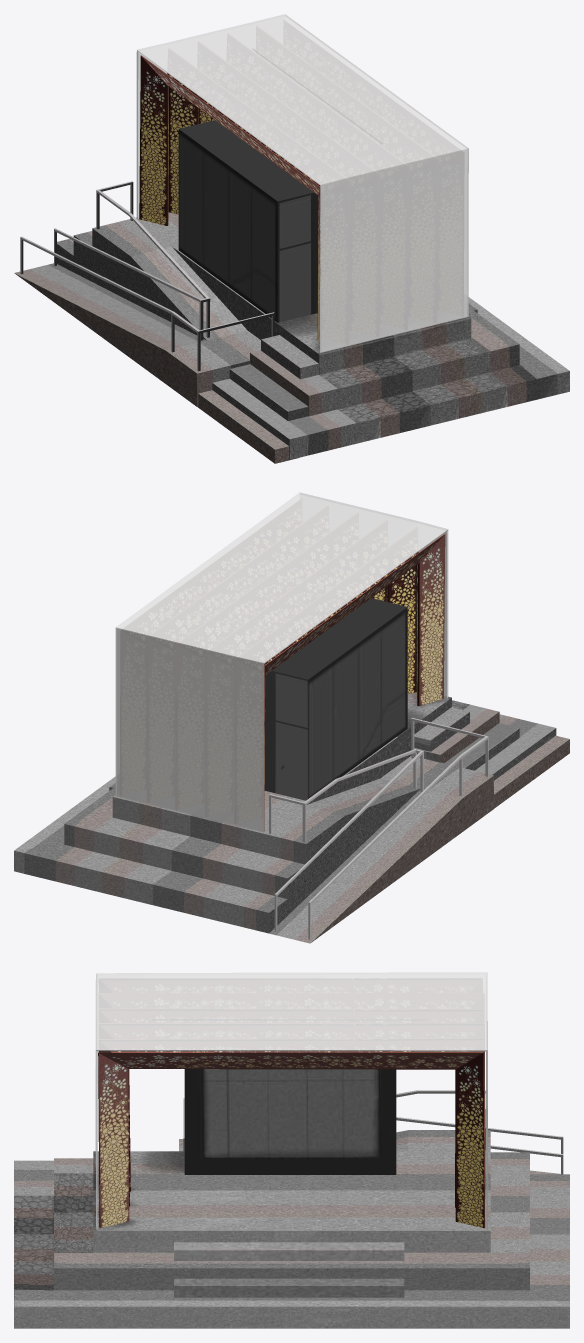
The model's file is stage.dae.
The picture shows the model from 3 angles, top to bottom: view 1: azimuth 30°, elevation 25°; view 2: azimuth 150°, elevation 25°; view 3: azimuth 270°, elevation 25°; orthographic projection. The views are drawn at different scales.
Visible parts, largest first — view 1: rotuaari-stage; view 2: rotuaari-stage; view 3: rotuaari-stage.
Boxes of the visible parts, x1,y1,x2,y2 form: rotuaari-stage: (14, 14, 569, 463); rotuaari-stage: (14, 492, 569, 943); rotuaari-stage: (14, 972, 569, 1328).
Size of the model in its own units: 14.46 by 22.09 by 11.01.
2 materials, 2 textured.
